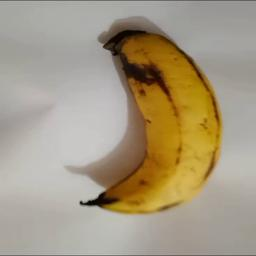Banana Semifresh: (83, 25, 224, 218)
